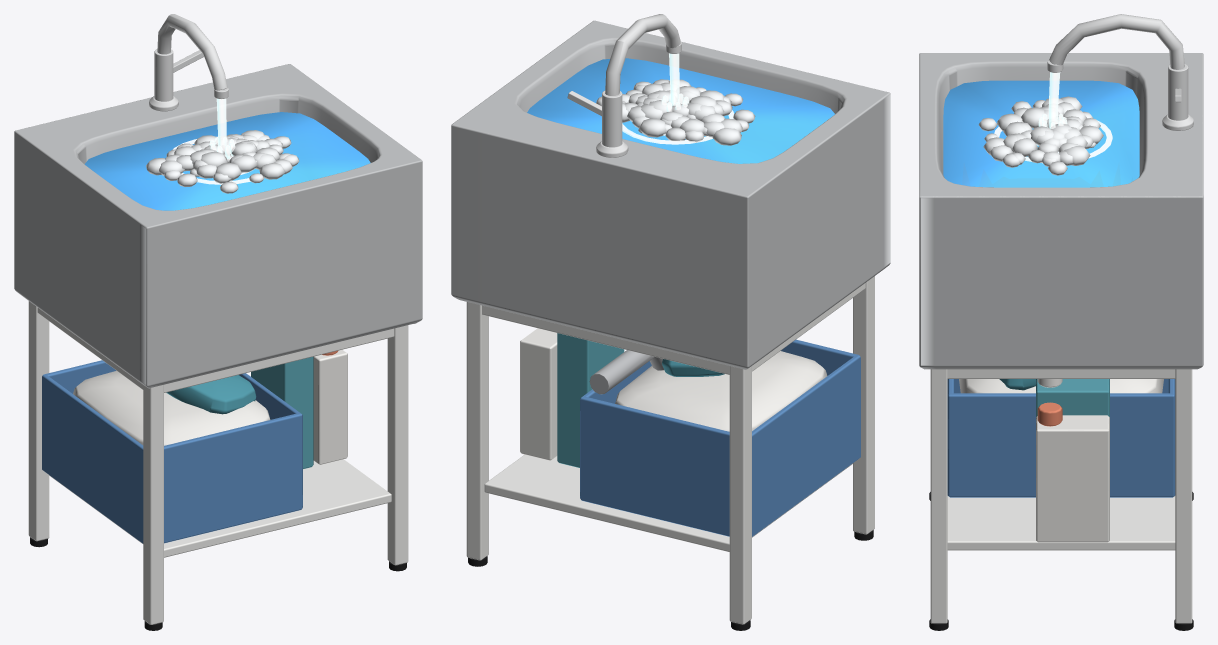
The model's file is utility_sink.glb.
The picture shows the model from 3 angles, left to right: view 1: azimuth 30°, elevation 25°; view 2: azimuth 150°, elevation 25°; view 3: azimuth 270°, elevation 25°; orthographic projection. The views are drawn at different scales.
Visible parts, largest first — view 1: utility_sink_tub, utility_sink_shelf_items, utility_sink_stand, utility_sink_basin_water, utility_sink_stream, utility_sink_faucet; view 2: utility_sink_tub, utility_sink_shelf_items, utility_sink_stand, utility_sink_basin_water, utility_sink_stream, utility_sink_faucet, utility_sink_trap; view 3: utility_sink_tub, utility_sink_shelf_items, utility_sink_stand, utility_sink_basin_water, utility_sink_stream, utility_sink_faucet.
Part boxes in pixels (x1,y1,x2,y2): utility_sink_tub: (14, 64, 422, 388); utility_sink_shelf_items: (42, 349, 347, 543); utility_sink_stand: (28, 301, 408, 624); utility_sink_basin_water: (84, 112, 370, 210); utility_sink_stream: (146, 98, 299, 193); utility_sink_faucet: (149, 14, 228, 111); utility_sink_tub: (451, 20, 890, 369); utility_sink_shelf_items: (520, 328, 860, 536); utility_sink_stand: (466, 276, 874, 624); utility_sink_basin_water: (527, 58, 834, 163); utility_sink_stream: (596, 53, 755, 145); utility_sink_faucet: (567, 14, 681, 157); utility_sink_trap: (589, 350, 663, 394); utility_sink_tub: (919, 53, 1203, 369); utility_sink_shelf_items: (947, 379, 1175, 542); utility_sink_stand: (930, 369, 1192, 623); utility_sink_basin_water: (943, 80, 1139, 187); utility_sink_stream: (978, 72, 1112, 175); utility_sink_faucet: (1047, 14, 1193, 130).
Bounding box in the file's own units: 0.6 × 1.06 × 0.5.
